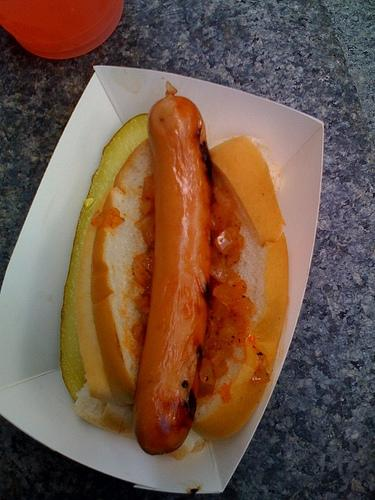onion: (214, 180, 237, 219), (134, 212, 156, 250), (139, 174, 155, 216), (212, 284, 240, 306), (215, 229, 234, 254), (198, 358, 214, 386), (219, 319, 238, 341), (210, 263, 230, 282), (127, 280, 146, 300), (130, 320, 144, 346), (210, 349, 223, 370), (137, 296, 150, 316), (91, 210, 105, 227), (140, 266, 150, 284)
